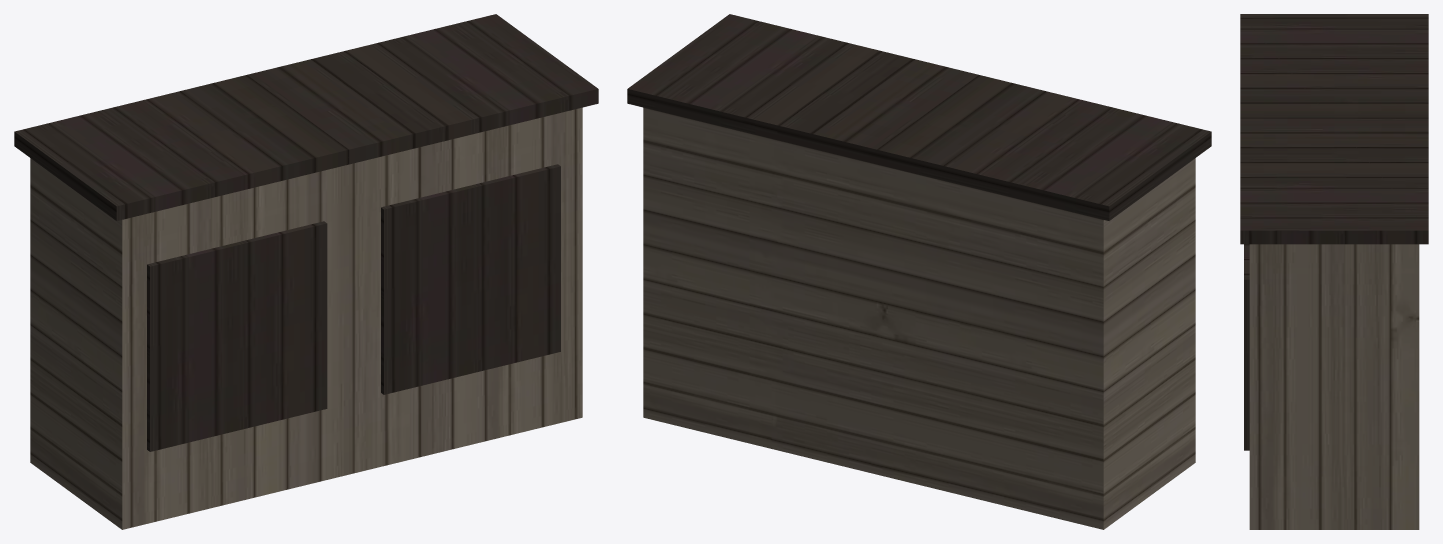
File: cabinet_low_01.glb
3 renders of one model, left to right at view 1: azimuth 30°, elevation 25°; view 2: azimuth 150°, elevation 25°; view 3: azimuth 270°, elevation 25°, orthographic. The views are drawn at different scales.
Parts seen in each view (by area): view 1: cabinet_low_01; view 2: cabinet_low_01; view 3: cabinet_low_01.
Boxes of the visible parts, x1=… form: cabinet_low_01: x1=14, y1=14, x2=598, y2=529; cabinet_low_01: x1=627, y1=14, x2=1211, y2=529; cabinet_low_01: x1=1240, y1=14, x2=1428, y2=529.
Size of the model in its own units: 1.36 by 0.89 by 0.4999.
Materials: 2 (2 with a texture image).
